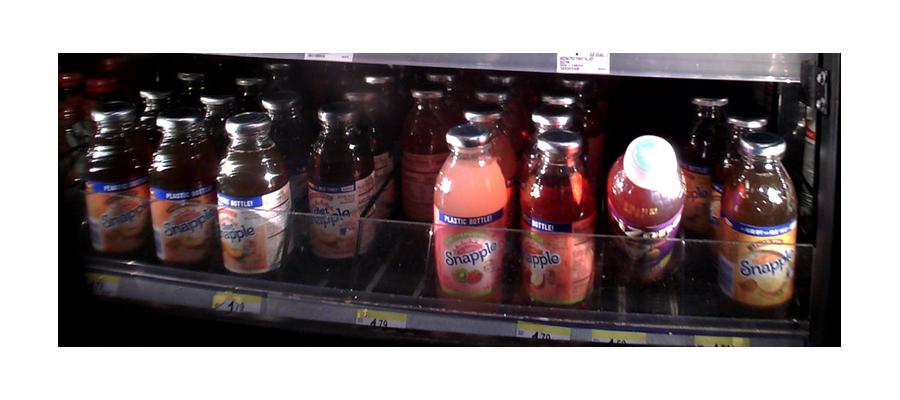bottle: (723, 127, 795, 316), (609, 135, 684, 316), (438, 117, 509, 306), (522, 124, 592, 306), (218, 112, 288, 280), (305, 101, 375, 266), (149, 106, 212, 268), (86, 103, 149, 260), (399, 87, 448, 217)
